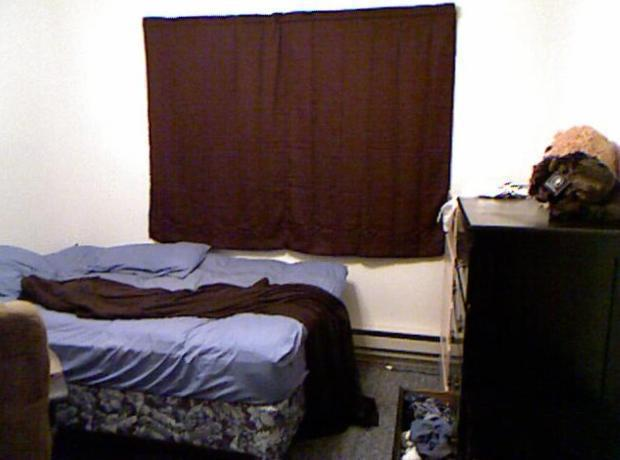Armario: (450, 198, 618, 455)
